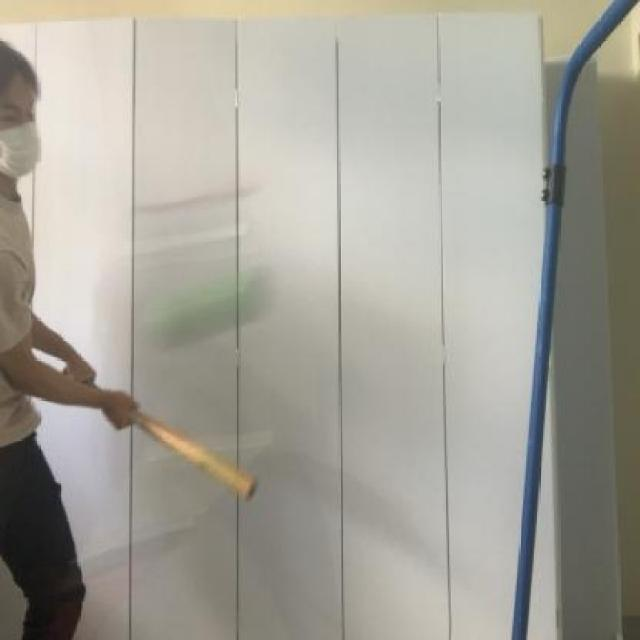baseball: (142, 249, 289, 349)
